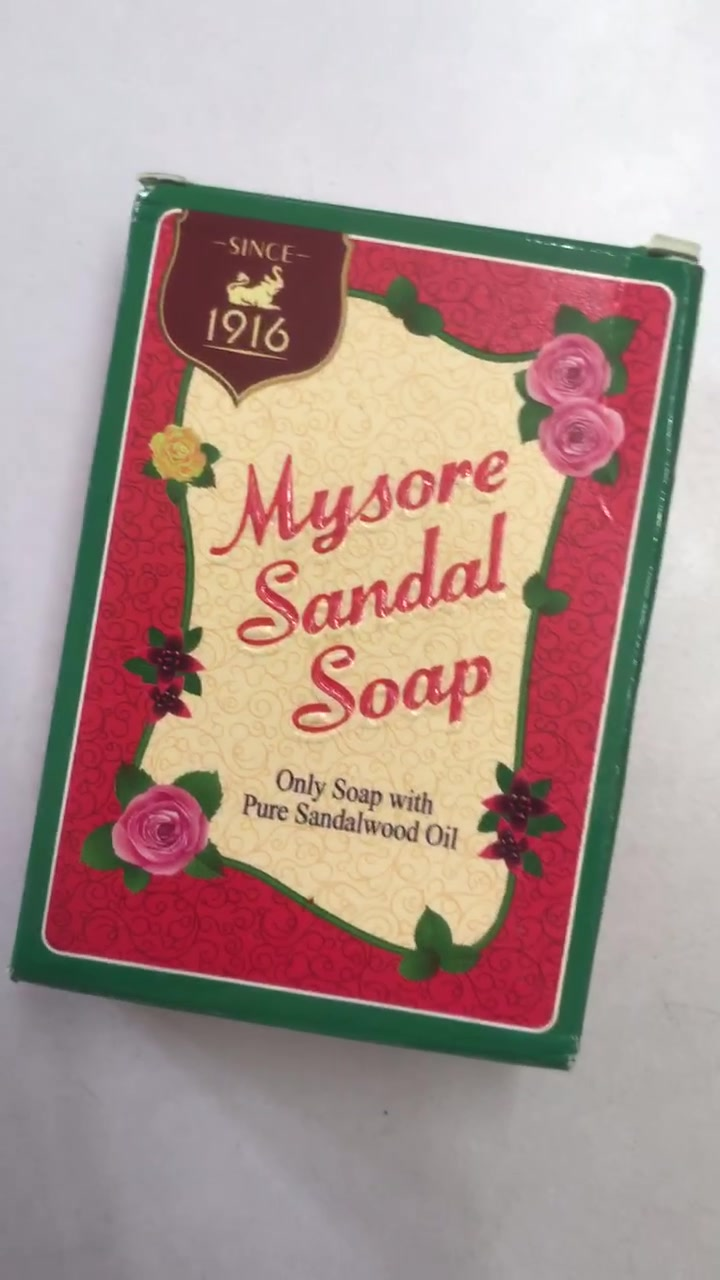mysore sandal soap: (13, 189, 699, 1064)
